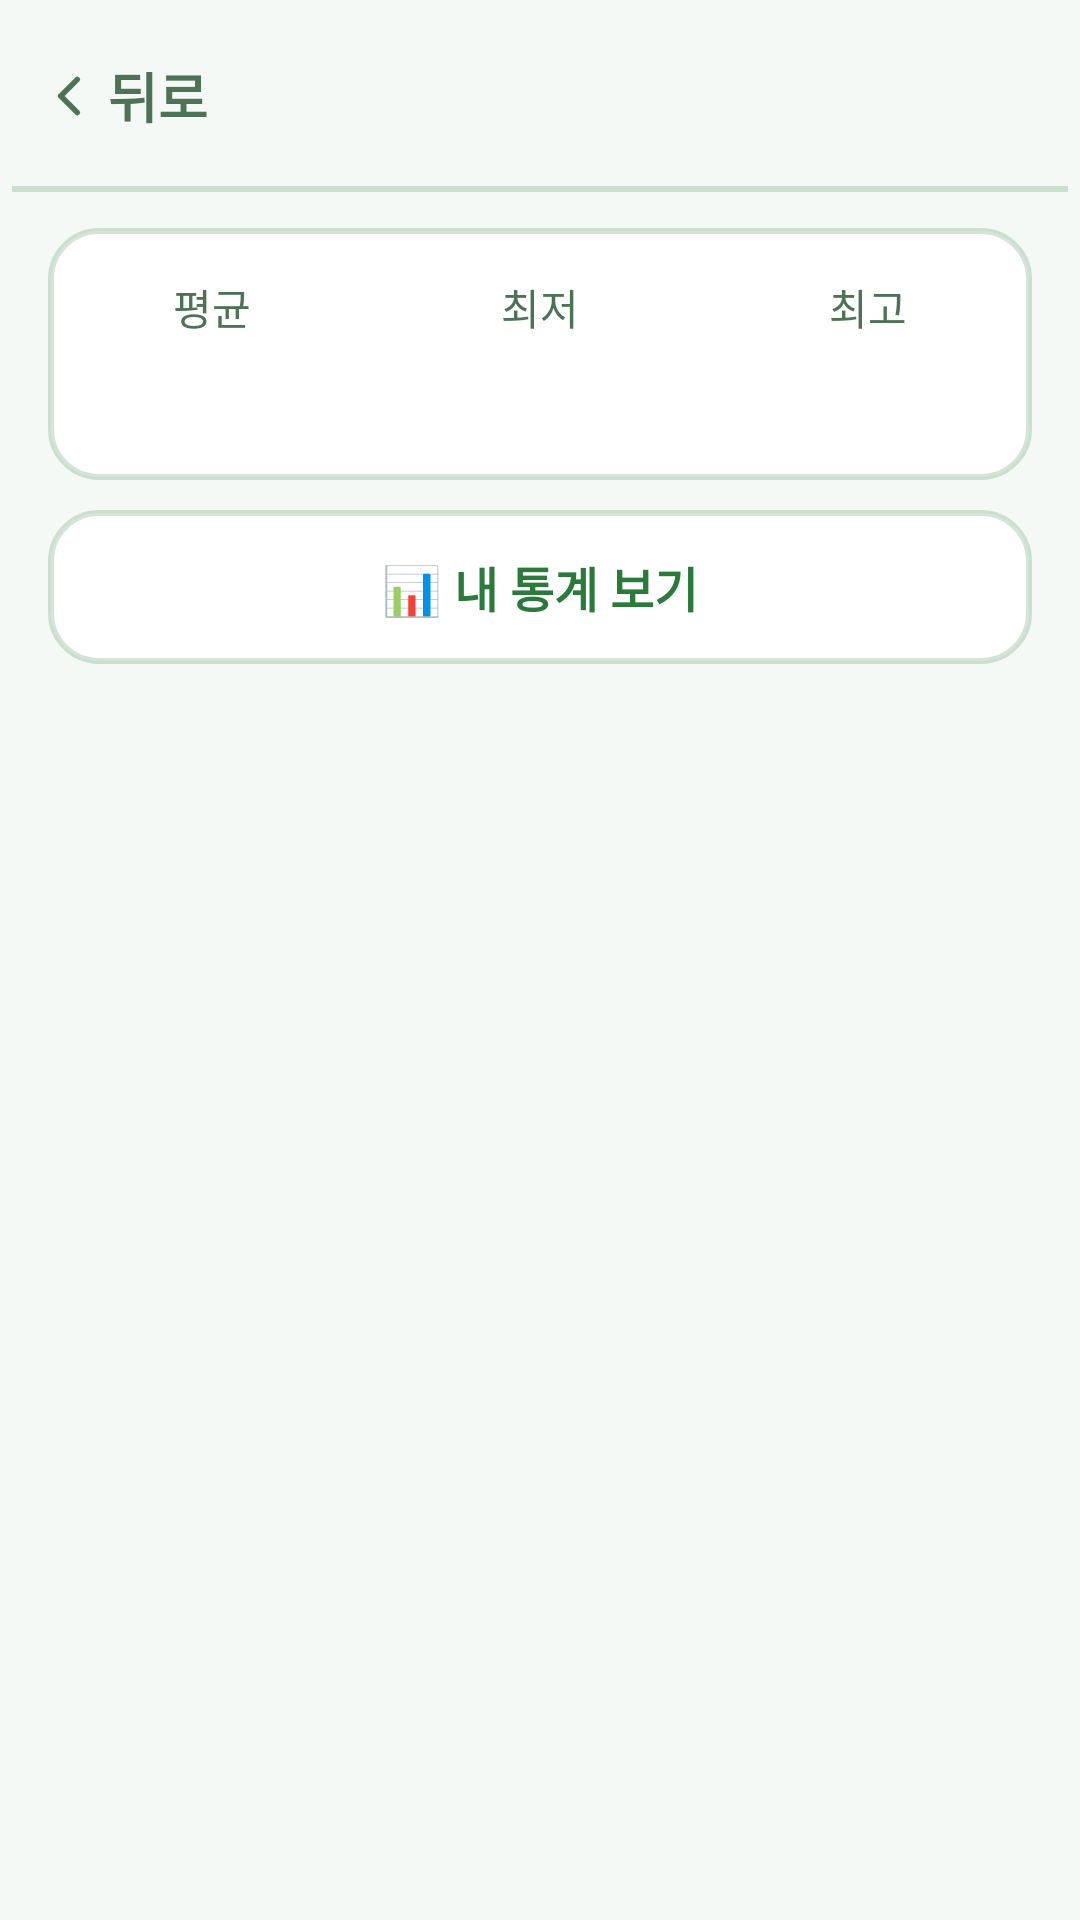

Locate icon controls on the screen. Image size 1080×1920, boxes as (x1, y1, x2, y2).
chevron left: (58, 76, 80, 116)
